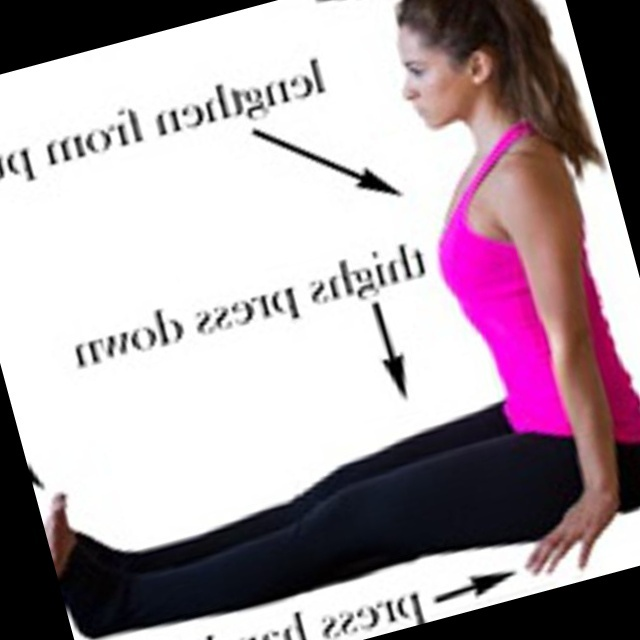Staff_Pose: (45, 6, 636, 634)
